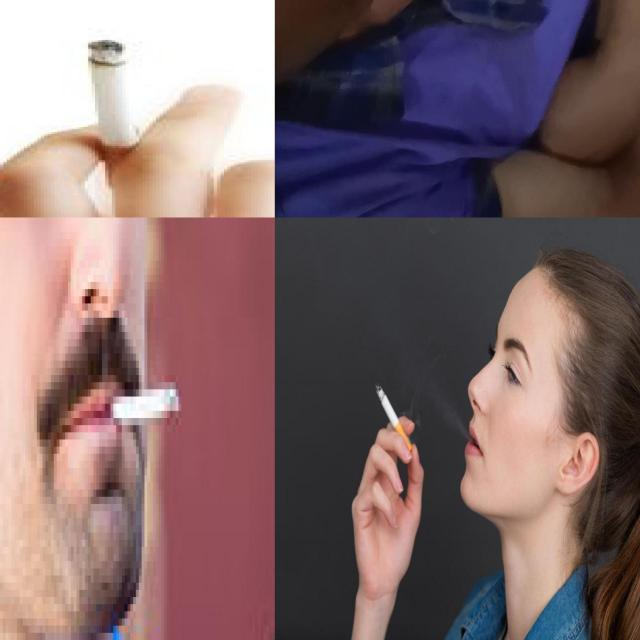cigarette: (86, 40, 140, 188), (108, 375, 176, 418), (376, 385, 412, 452)
